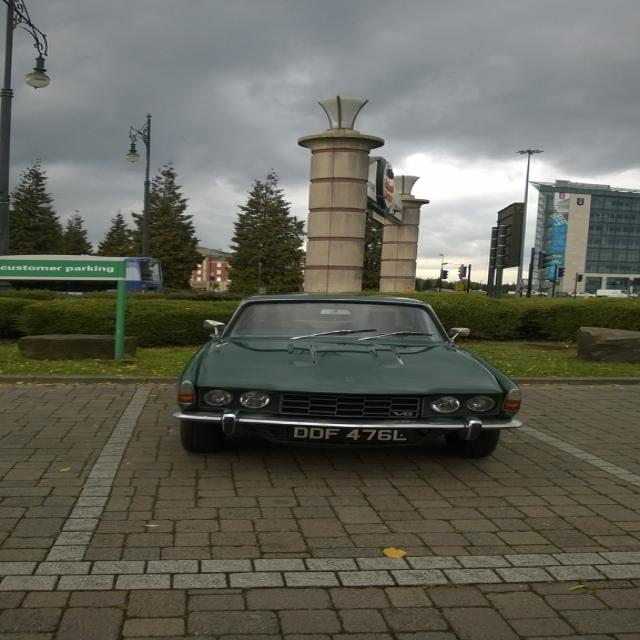car: (174, 294, 523, 453)
